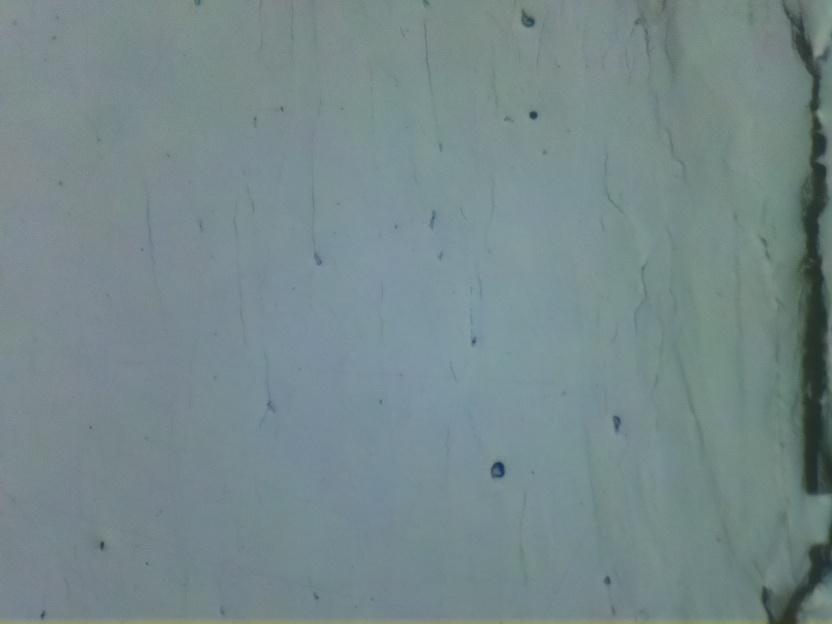crack: (758, 0, 832, 623)
